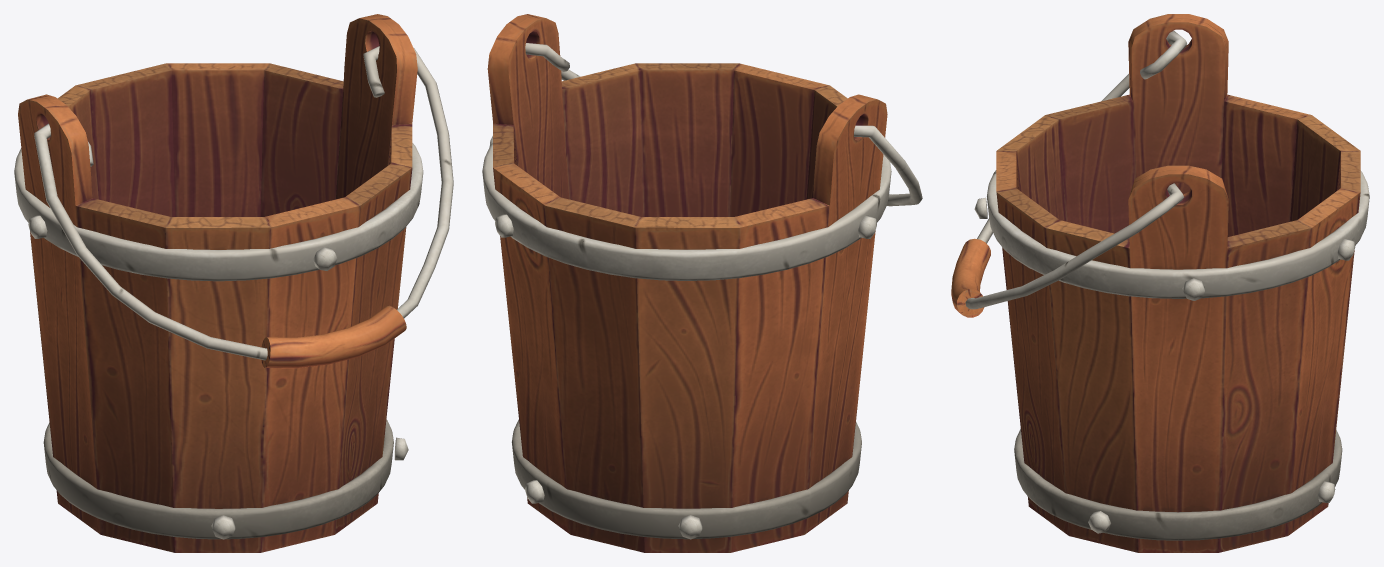
File: stylized_wooden_bucket.glb
3 views of the same model, side by side, from view 1: azimuth 30°, elevation 25°; view 2: azimuth 150°, elevation 25°; view 3: azimuth 270°, elevation 25° (orthographic). The views are drawn at different scales.
Visible parts, largest first — view 1: planks_low_Material #25_0, metal_low, handle_low_Material #25_0, grip_low_Material #25_0; view 2: planks_low_Material #25_0, metal_low, handle_low_Material #25_0; view 3: planks_low_Material #25_0, metal_low, handle_low_Material #25_0, grip_low_Material #25_0.
Boxes of the visible parts, x1,y1,x2,y2 form: planks_low_Material #25_0: [18, 14, 417, 552]; metal_low: [14, 143, 423, 539]; handle_low_Material #25_0: [34, 46, 453, 360]; grip_low_Material #25_0: [261, 305, 406, 368]; planks_low_Material #25_0: [487, 14, 887, 552]; metal_low: [482, 143, 891, 539]; handle_low_Material #25_0: [525, 43, 922, 206]; planks_low_Material #25_0: [996, 14, 1360, 552]; metal_low: [987, 170, 1369, 540]; handle_low_Material #25_0: [965, 31, 1186, 309]; grip_low_Material #25_0: [951, 238, 990, 317].
Bounding box in the file's own units: 458 × 474 × 455.
1 material, 1 textured.
